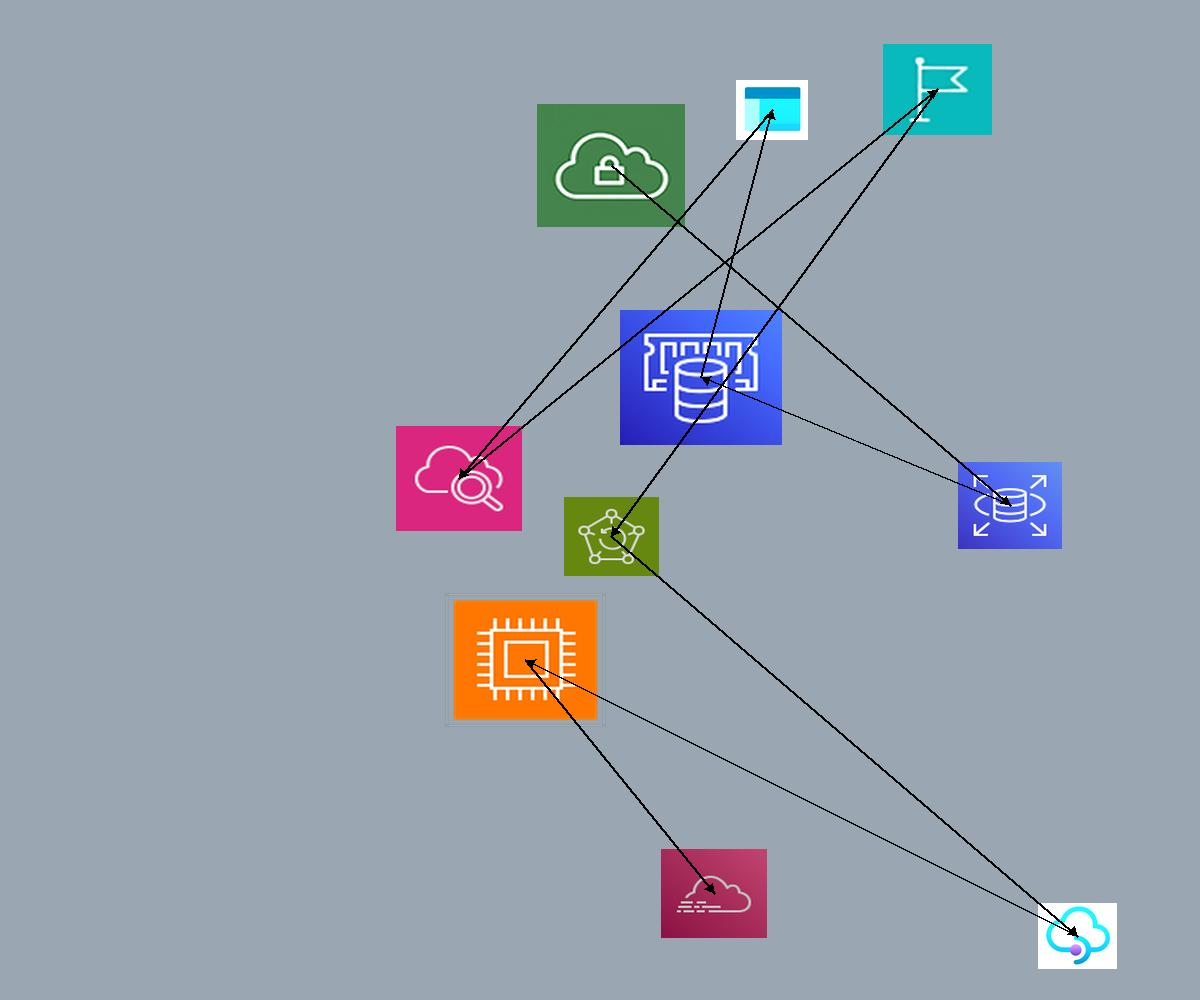AWS-Backup: (564, 497, 659, 576)
AWS-Category_Compute: (445, 593, 606, 727)
AWS-CloudTrail: (661, 849, 767, 938)
AWS-CloudWatch: (396, 426, 522, 531)
AWS-ElastiCache: (620, 310, 782, 445)
AWS-Private_vpc: (537, 104, 685, 227)
AWS-RDS: (958, 462, 1062, 549)
AWS-Region: (883, 44, 992, 135)
Azure_api_gateway: (1038, 903, 1117, 969)
Azure_management-portal: (736, 80, 808, 140)
